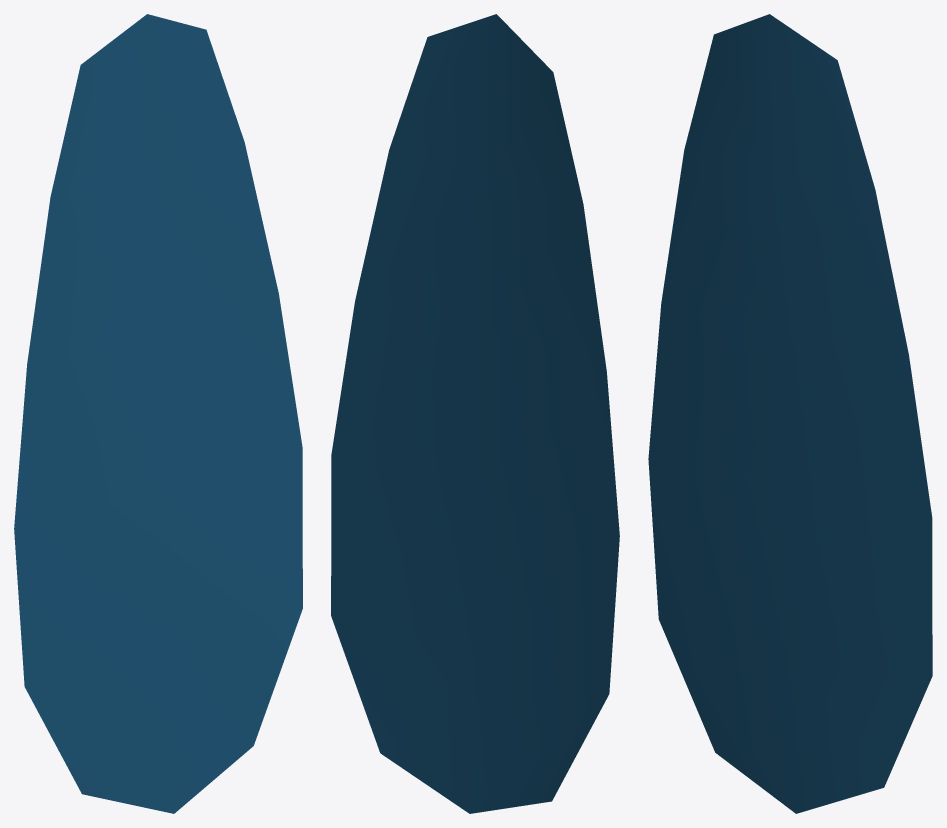
Rendered from budgie_feather_flight_secondary_005.obj.
3 views of the same model, side by side, from view 1: azimuth 30°, elevation 25°; view 2: azimuth 150°, elevation 25°; view 3: azimuth 330°, elevation 25° (orthographic).
Visible parts, largest first — view 1: feather_flight_secondary_005; view 2: feather_flight_secondary_005; view 3: feather_flight_secondary_005.
Boxes of the visible parts, x1=… form: feather_flight_secondary_005: x1=14, y1=14, x2=302, y2=813; feather_flight_secondary_005: x1=331, y1=14, x2=619, y2=813; feather_flight_secondary_005: x1=648, y1=14, x2=932, y2=813.
Size of the model in its own units: 0.0108 by 0.0288 by 0.000321.
